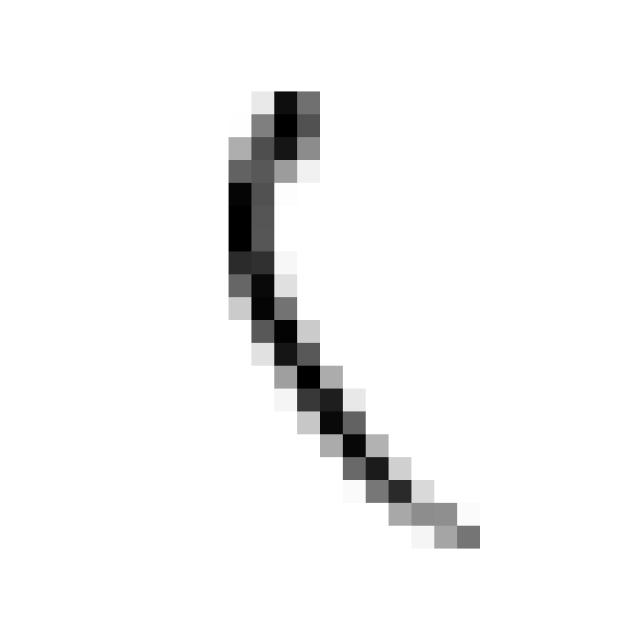2 -two-: (201, 69, 504, 576)
